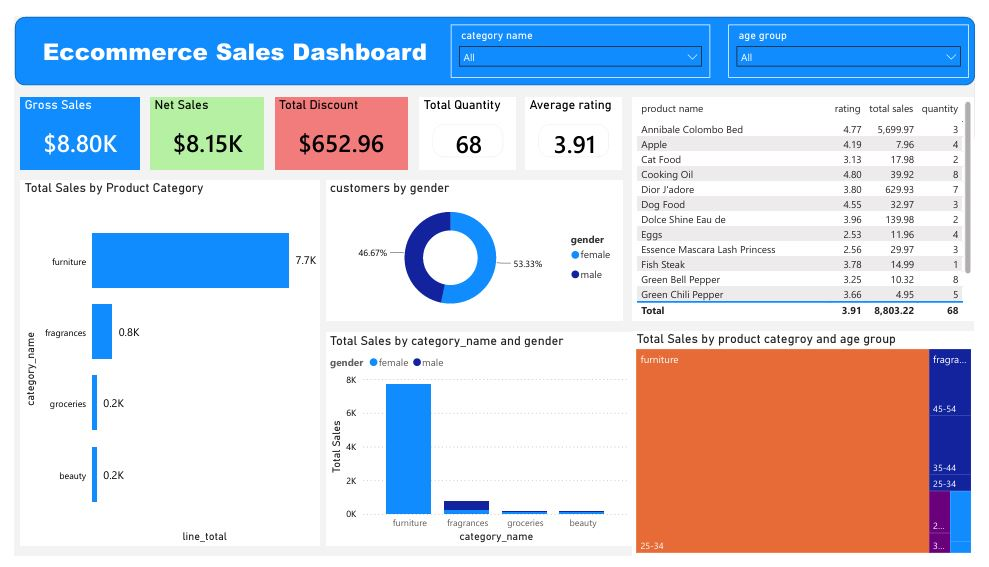

The dashboard page shown, as its layout file describes it:
{"tool":"powerbi","page":{"name":"Page 1","canvas":[1280,720],"ordinal":0},"visuals":[{"type":"cardVisual","title":"Total Quantity","fields":{"Data":["Sum(orders.quantity)"]},"box":[539.8,107.2,129,97.2],"z":0},{"type":"shape","title":"Eccommerce Sales & Inventory Dashboard","box":[0,0,1280,91.3],"z":1000},{"type":"cardVisual","title":"Net Sales","fields":{"Data":["Sum(orders.discounted_total)"]},"box":[180.6,107.2,152.8,97.2],"z":2000},{"type":"cardVisual","title":"Gross Sales","fields":{"Data":["Sum(orders.line_total)"]},"box":[7.9,107.2,158.8,97.2],"z":3000},{"type":"clusteredBarChart","title":"Total Sales by Product Category","fields":{"Category":["orders.category_name"],"Y":["Sum(orders.line_total)"]},"box":[7.9,218.3,398.9,488.2],"z":4000},{"type":"columnChart","title":"Total Sales by category_name and gender","fields":{"Y":["Sum(orders.line_total)"],"Category":["orders.category_name"],"Series":["orders.gender"]},"box":[414.8,420.7,408.8,285.8],"z":5000},{"type":"donutChart","title":"customers by gender","fields":{"Category":["orders.gender"],"Y":["orders.number of customers"]},"box":[414.8,218.3,394.9,186.5],"z":6000},{"type":"cardVisual","title":"Total Discount","fields":{"Data":["orders.Total Discount Amount"]},"box":[347.3,107.2,176.6,97.2],"z":7000},{"type":"tableEx","fields":{"Values":["orders.title","Avg(orders.product_rating)","Sum(orders.line_total)","Sum(orders.quantity)"]},"box":[823.6,107.2,456.4,297.7],"z":8000},{"type":"cardVisual","title":"Average rating","fields":{"Data":["Avg(orders.product_rating)"]},"box":[680.7,107.2,129,97.2],"z":9000},{"type":"slicer","fields":{"Values":["orders.category_name"]},"box":[581.5,9.9,345.3,71.4],"z":9001},{"type":"slicer","fields":{"Values":["orders.age_group"]},"box":[950.6,9.9,321.5,71.4],"z":9002},{"type":"treemap","title":"Total Sales by product  categroy and age group","fields":{"Values":["Sum(orders.line_total)"],"Group":["orders.category_name"],"Details":["orders.age_group"]},"box":[823.6,418.7,456.4,300],"z":9003}]}

Visuals, with their boxes in screenshot pixels (x1, y1, x2, y2), scaled from the page's 1280x720 canvas onto the 989x567 screenshot:
"Total Quantity" cardVisual: x1=417, y1=84, x2=517, y2=161
"Eccommerce Sales & Inventory Dashboard" shape: x1=0, y1=0, x2=988, y2=72
"Net Sales" cardVisual: x1=140, y1=84, x2=258, y2=161
"Gross Sales" cardVisual: x1=6, y1=84, x2=129, y2=161
"Total Sales by Product Category" clusteredBarChart: x1=6, y1=172, x2=314, y2=556
"Total Sales by category_name and gender" columnChart: x1=320, y1=331, x2=636, y2=556
"customers by gender" donutChart: x1=320, y1=172, x2=626, y2=319
"Total Discount" cardVisual: x1=268, y1=84, x2=405, y2=161
tableEx - orders.title x Avg(orders.product_rating): x1=636, y1=84, x2=988, y2=319
"Average rating" cardVisual: x1=526, y1=84, x2=626, y2=161
slicer - orders.category_name: x1=449, y1=8, x2=716, y2=64
slicer - orders.age_group: x1=734, y1=8, x2=983, y2=64
"Total Sales by product  categroy and age group" treemap: x1=636, y1=330, x2=988, y2=566
